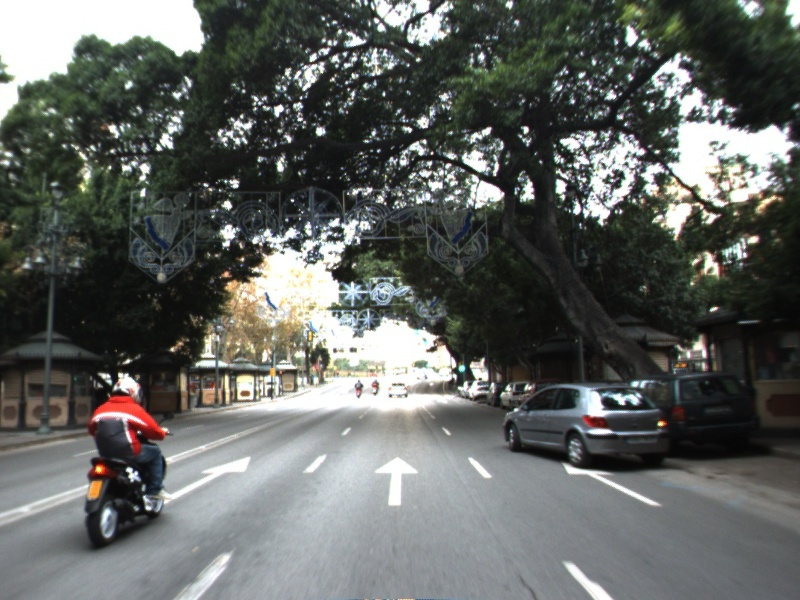STRAIGHT: (559, 458, 667, 509), (161, 451, 255, 504), (369, 453, 422, 508)
